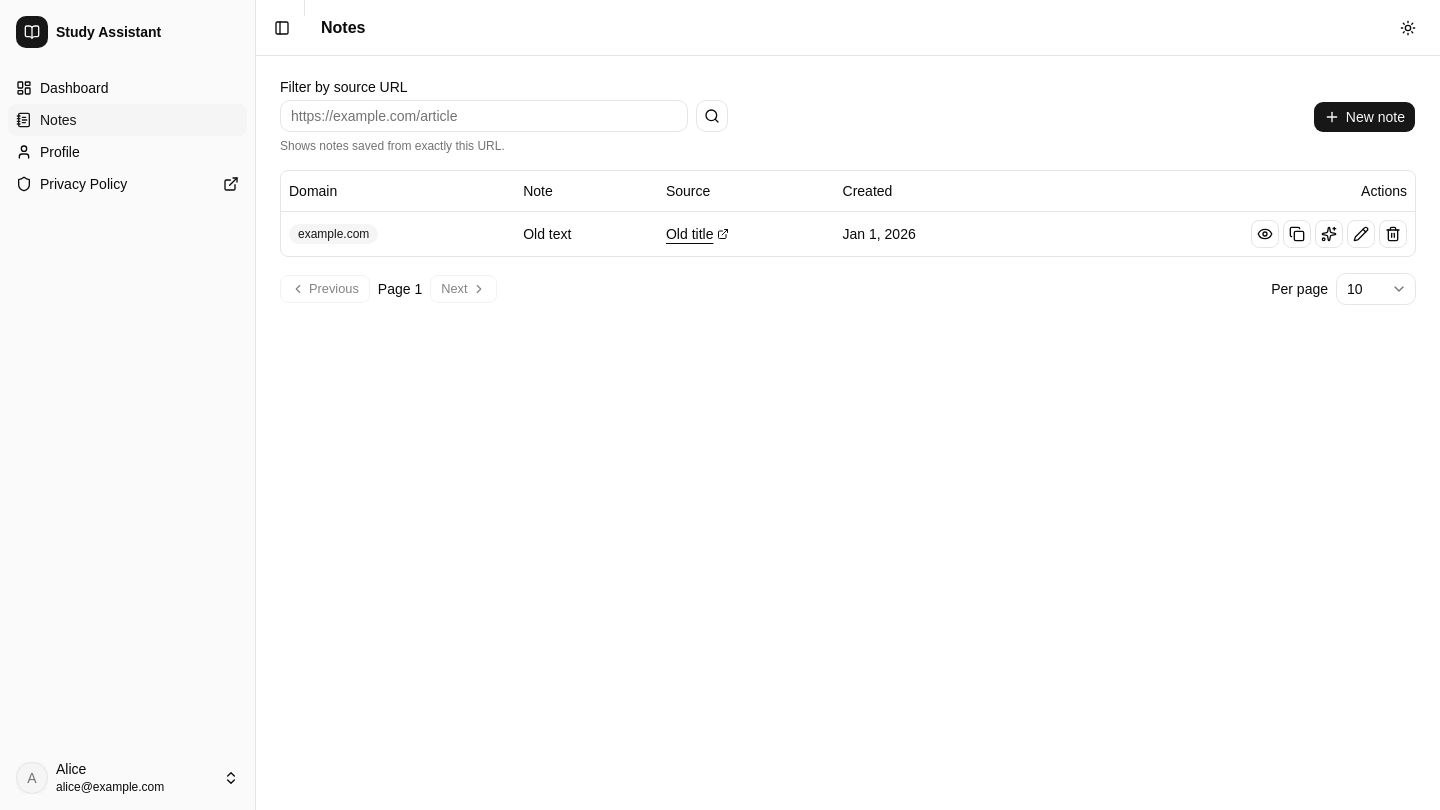
Test case: notes page › edits a note, clearing a field
Click the button named "Edit note".
click(1361, 234)  # box [1347,220,1375,248]
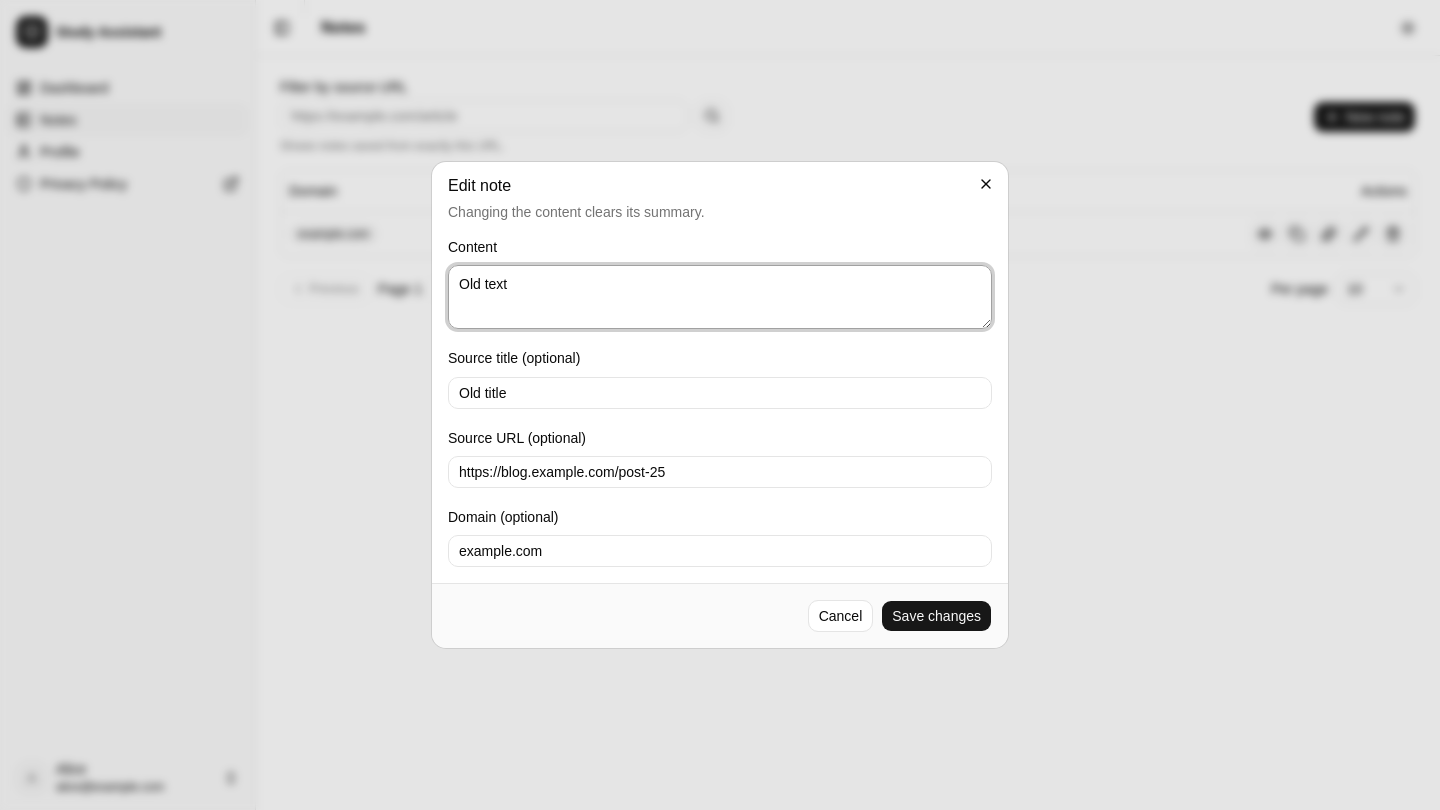
Now the text box labelled "Content" holds "Old text"
Replace the text in the text box labelled "Content" with "New text" at (720, 297), box [448,265,992,329]
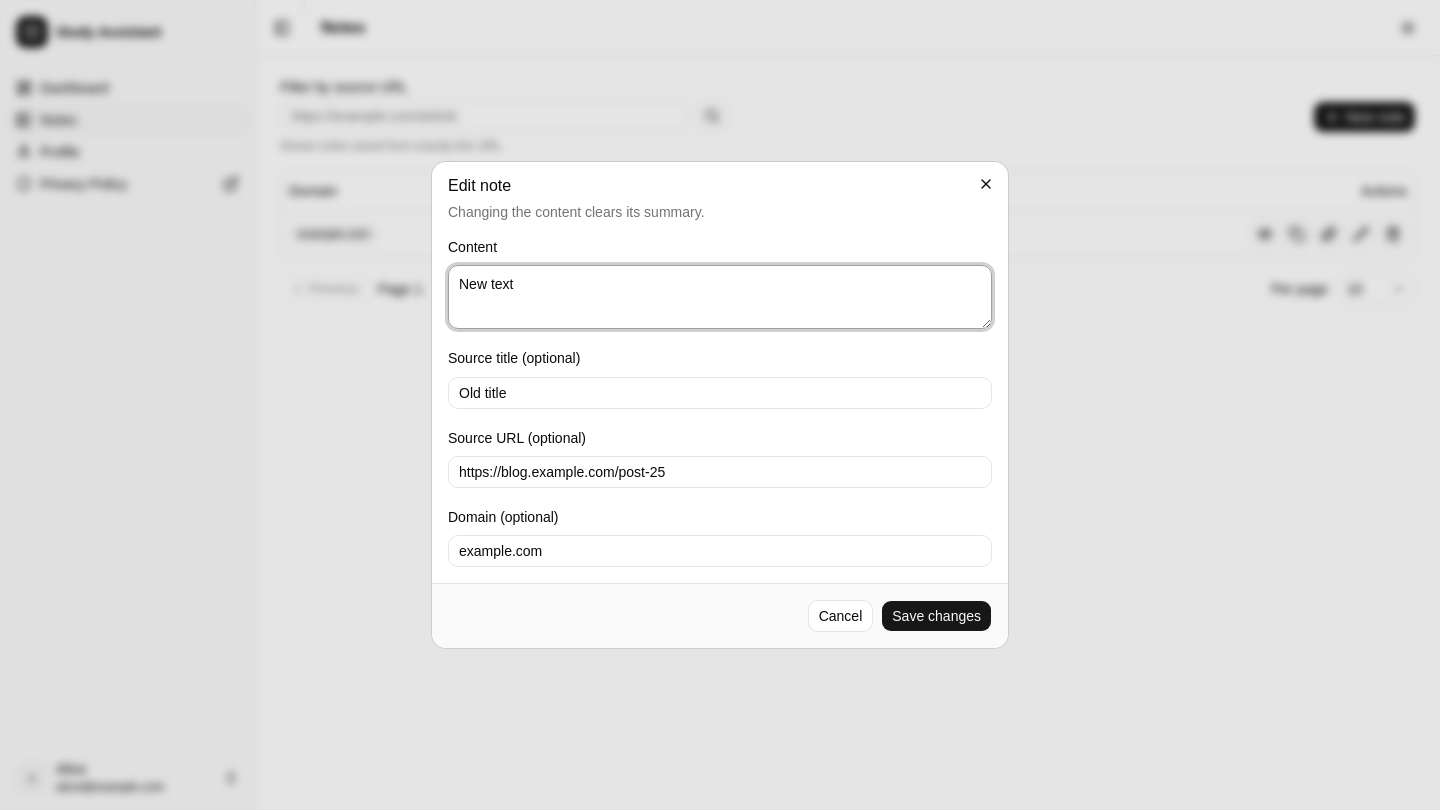
Clear the field labelled "Source title (optional)" at (720, 392), box [448,376,992,408]
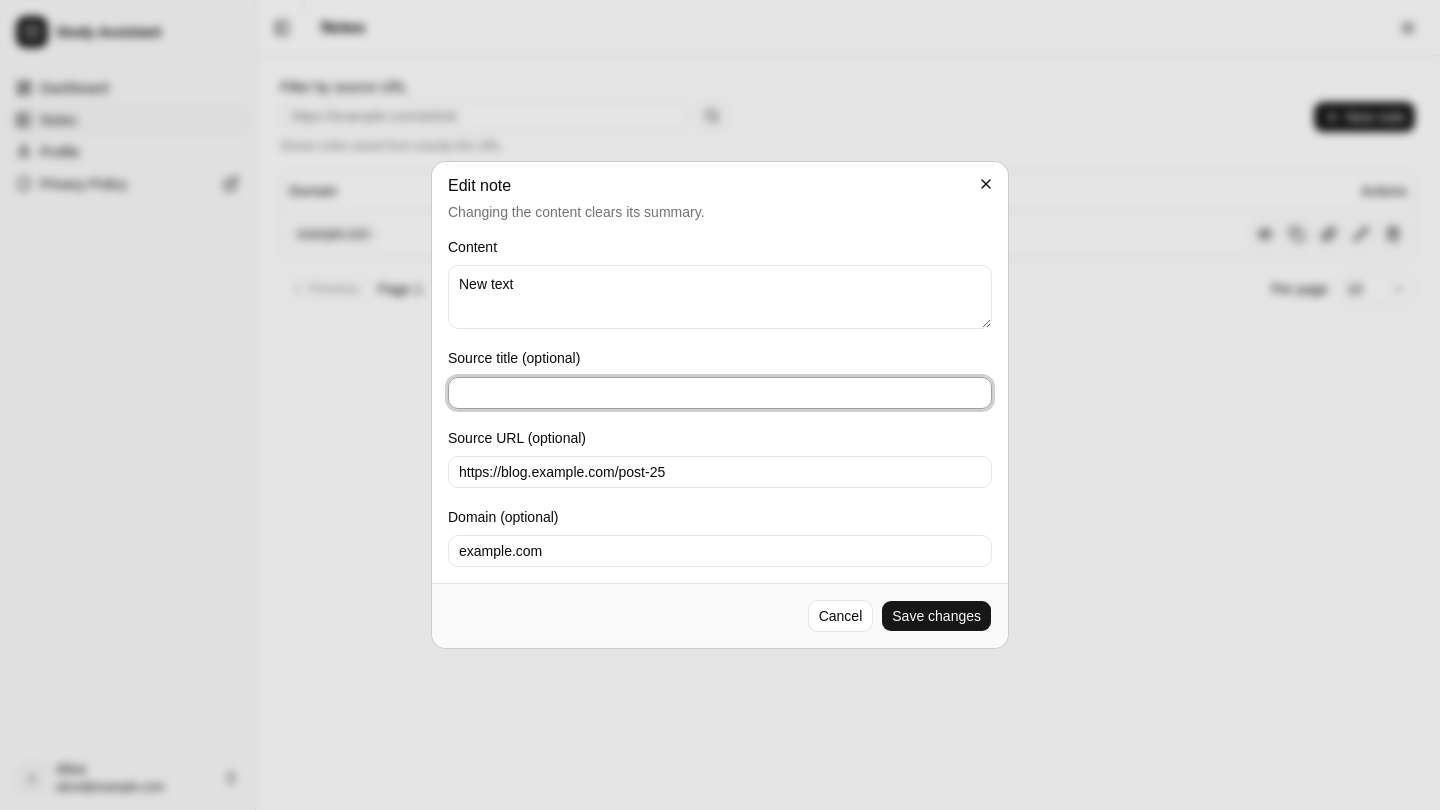
Click the button "Save changes".
click(937, 616)  # box [881,600,992,632]
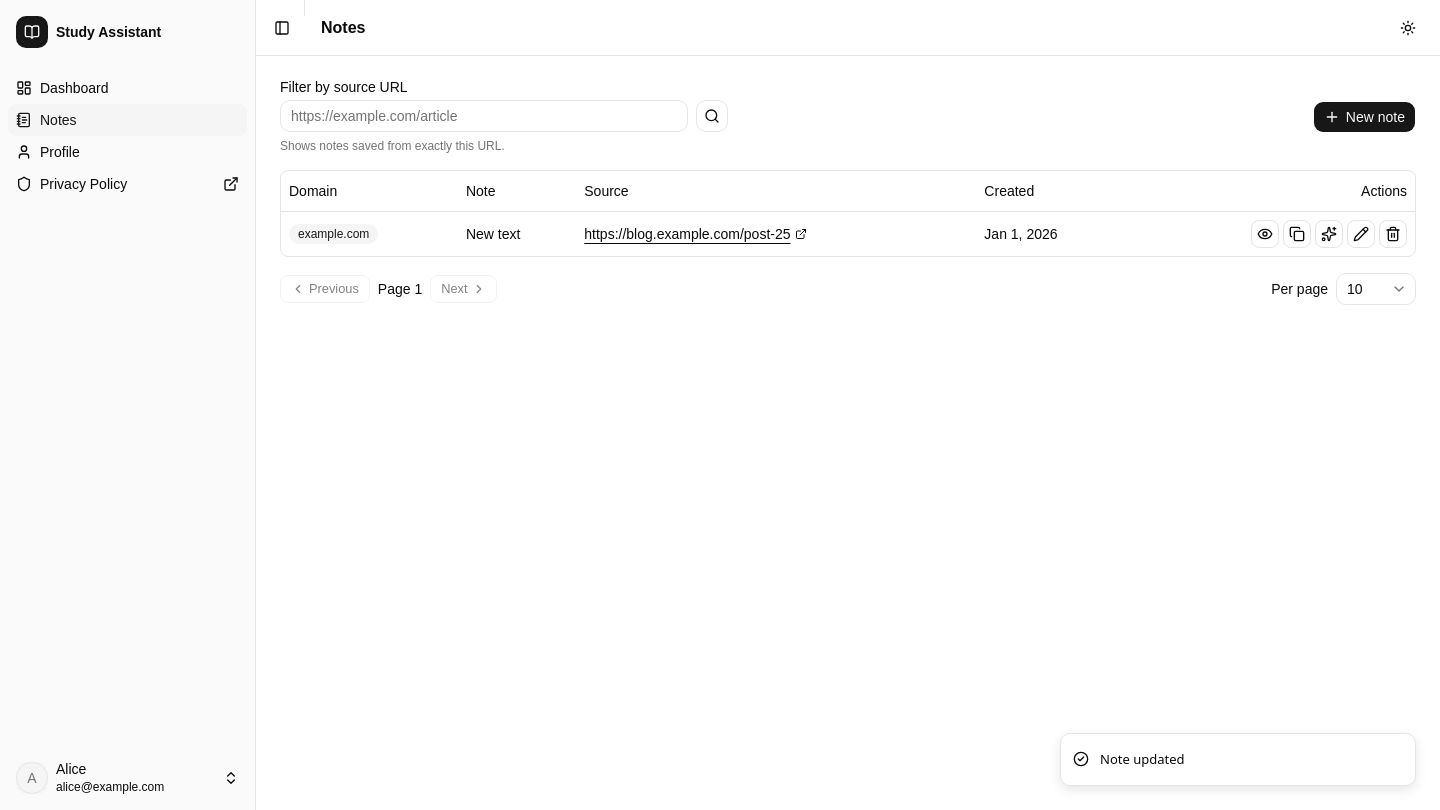
Now the text "Note updated" is shown, box [1100,750,1184,769]
Now the text "New text" is shown, box [458,211,576,256]
